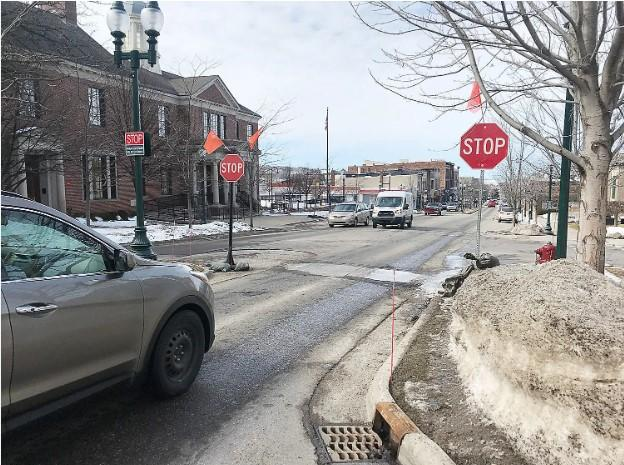Pole: (476, 170, 485, 255), (135, 155, 142, 253), (228, 182, 234, 264)
Sign: (459, 124, 509, 169), (220, 154, 245, 182)
